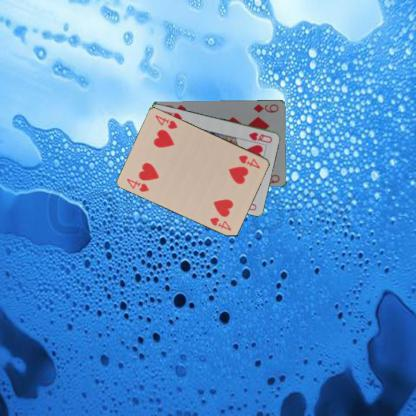4h: (236, 152, 261, 170), (124, 176, 150, 193)
9d: (251, 101, 280, 114)
Qh: (246, 129, 273, 144)
